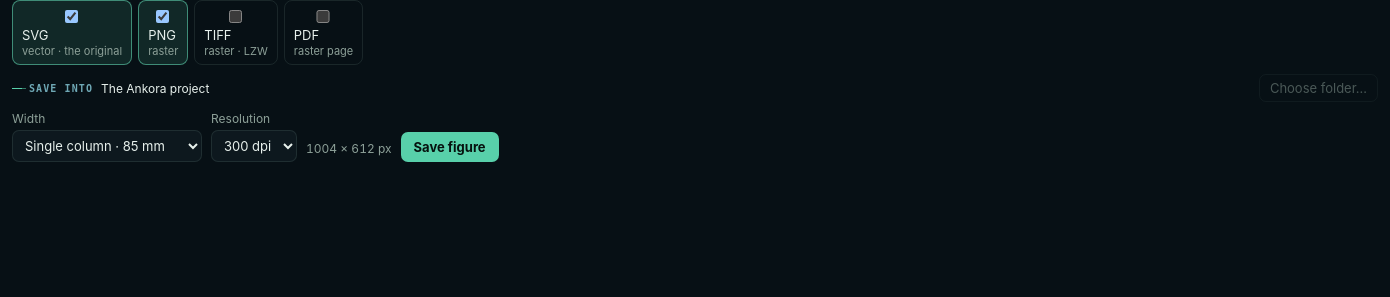
Test: labels each saved file with what it actually is
Click the checkbox labelled "PNG raster". click: (163, 16)
box: [152,10,173,23]
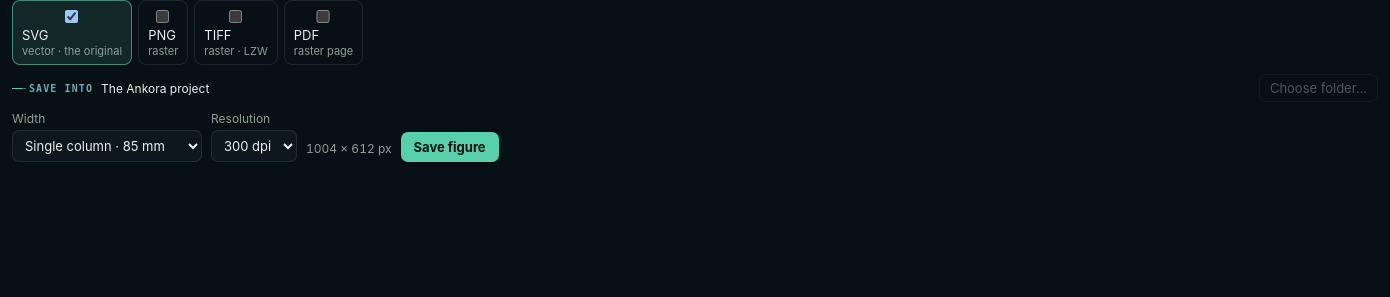
Click the button "Save figure". click: (450, 147)
box: [401,132,499,162]
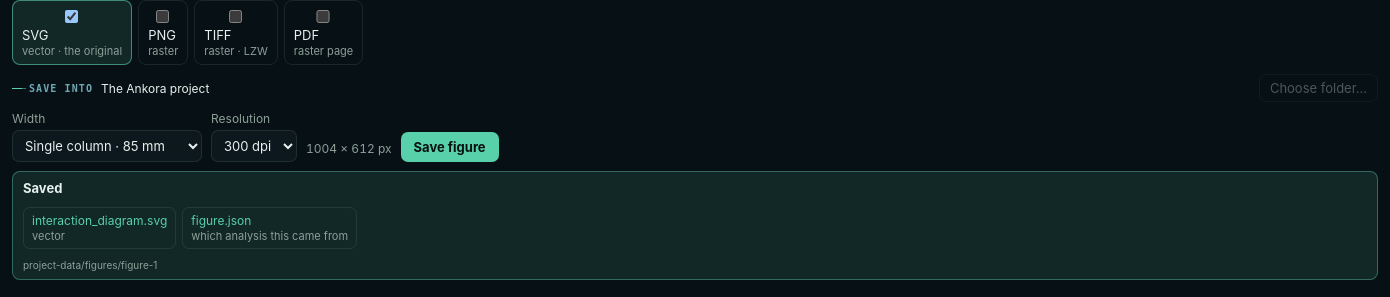
Check: the link "interaction_diagram.svg vector" is shown, box [23,207,176,249]
Check: the link "figure.json which analysis this came from" is shown, box [182,207,357,249]
